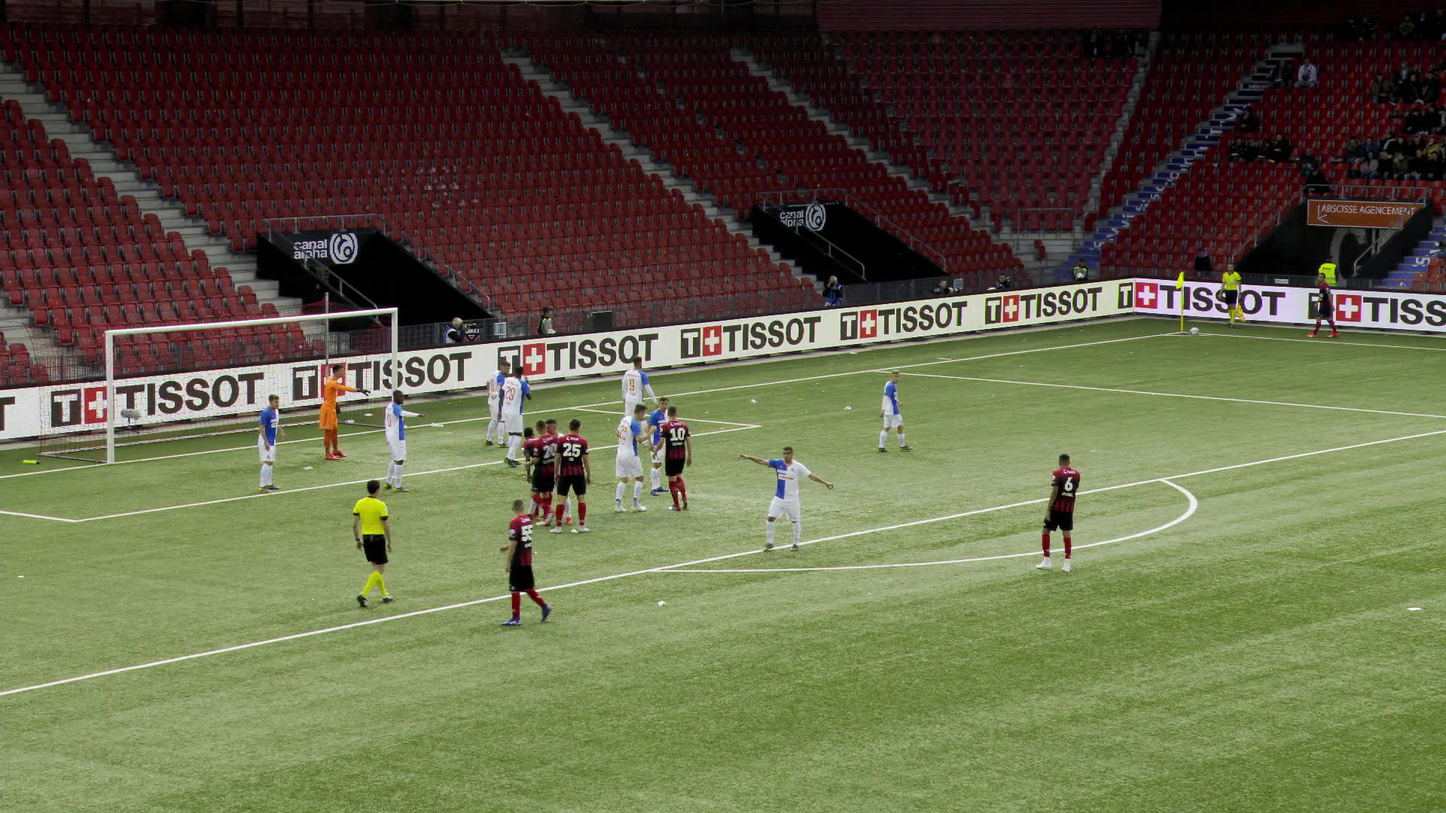ball: (1189, 327, 1198, 333)
player: (738, 445, 833, 552), (494, 498, 554, 625), (1035, 452, 1080, 572), (318, 364, 369, 461), (379, 388, 426, 491), (528, 416, 572, 525), (523, 419, 566, 525), (551, 418, 590, 533), (612, 403, 651, 513), (654, 405, 693, 510), (253, 394, 289, 492), (619, 355, 657, 446), (874, 370, 914, 453), (502, 366, 533, 464), (648, 397, 672, 495), (483, 360, 509, 447), (519, 428, 544, 515), (1307, 273, 1339, 337)
referee: (350, 477, 394, 604), (1218, 263, 1243, 327)
